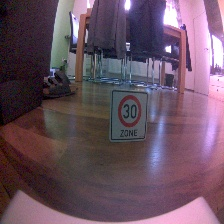dreisiger_zone: (109, 89, 149, 142)
